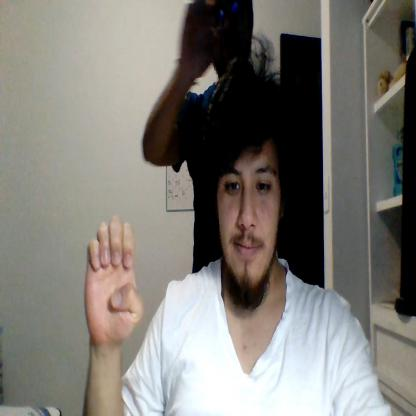E: (84, 216, 143, 344)
